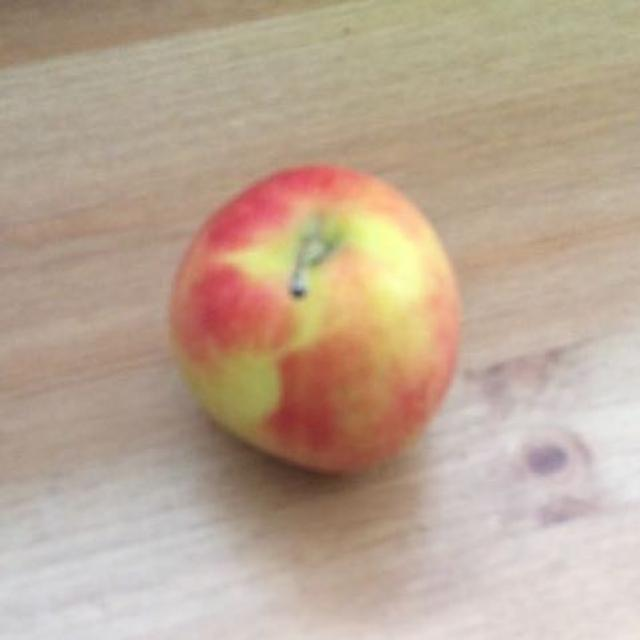apple: (165, 161, 464, 471)
